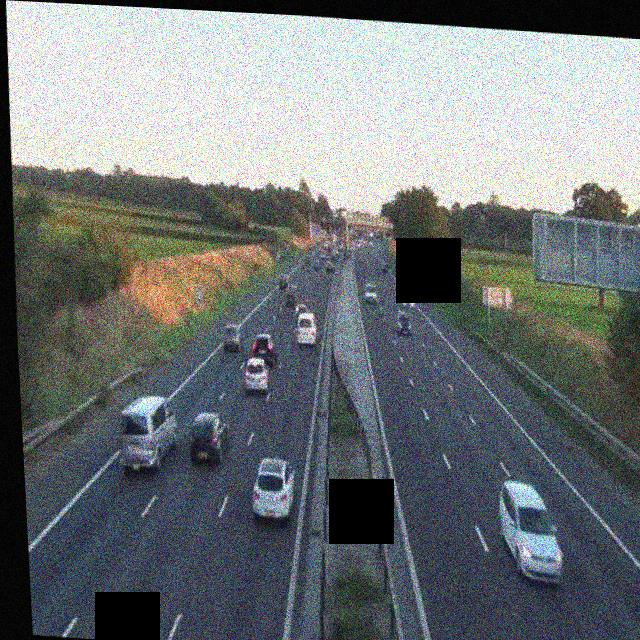car: (496, 481, 565, 586), (116, 393, 179, 474), (250, 457, 296, 522), (187, 410, 231, 465), (241, 356, 270, 393), (253, 331, 279, 368), (294, 309, 318, 346), (221, 322, 244, 351), (396, 310, 413, 335), (399, 289, 414, 310), (363, 282, 377, 304), (284, 287, 297, 310), (277, 274, 287, 289), (301, 251, 310, 264), (325, 259, 333, 271), (382, 263, 391, 273)
